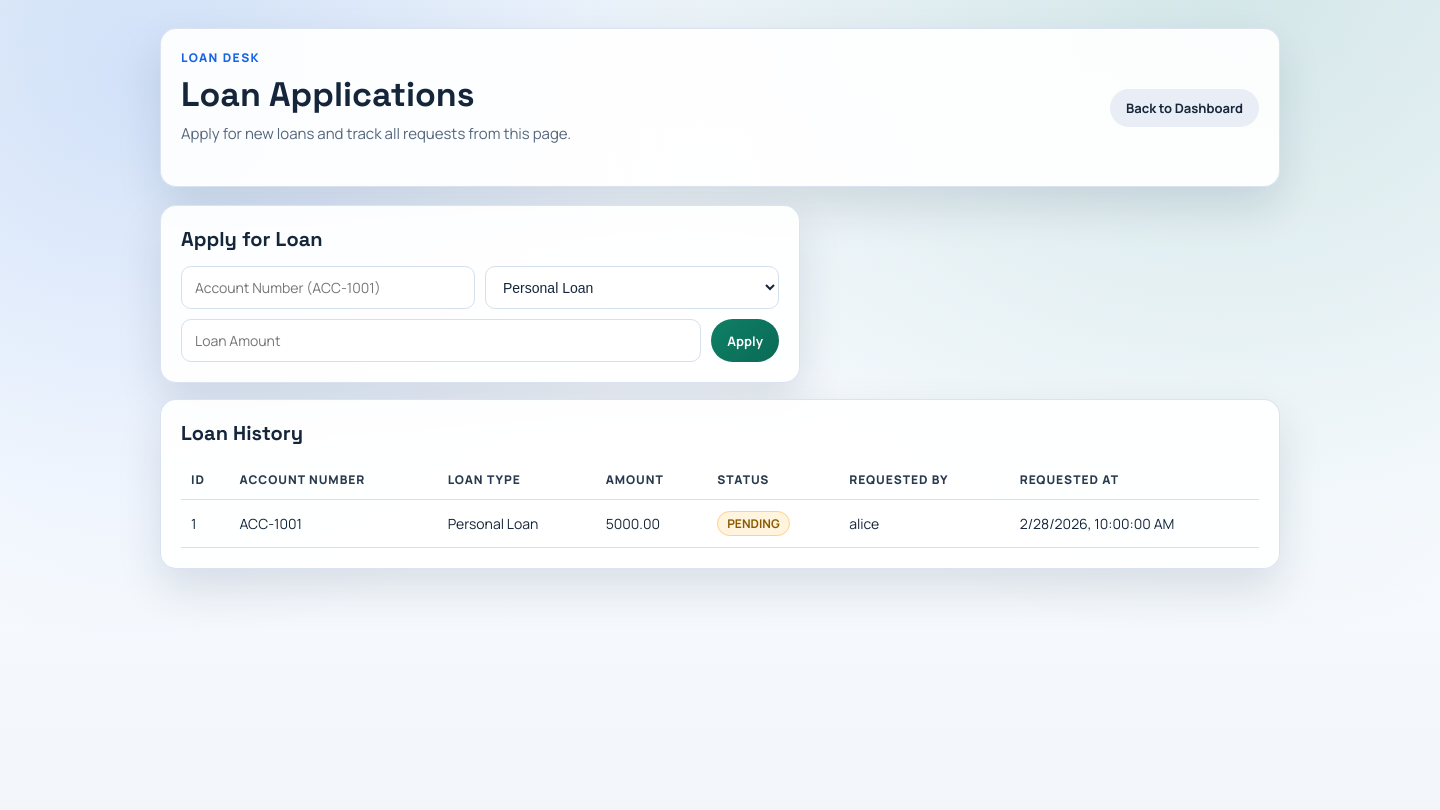
Test case: loads loans and submits a new loan application
Check: the text "ACC-1001" is shown, box [230,500,438,548]
Step 1. Type "ACC-2002" into the field labelled "Account Number (ACC-1001)" → x=328, y=288, box [181,266,475,309]
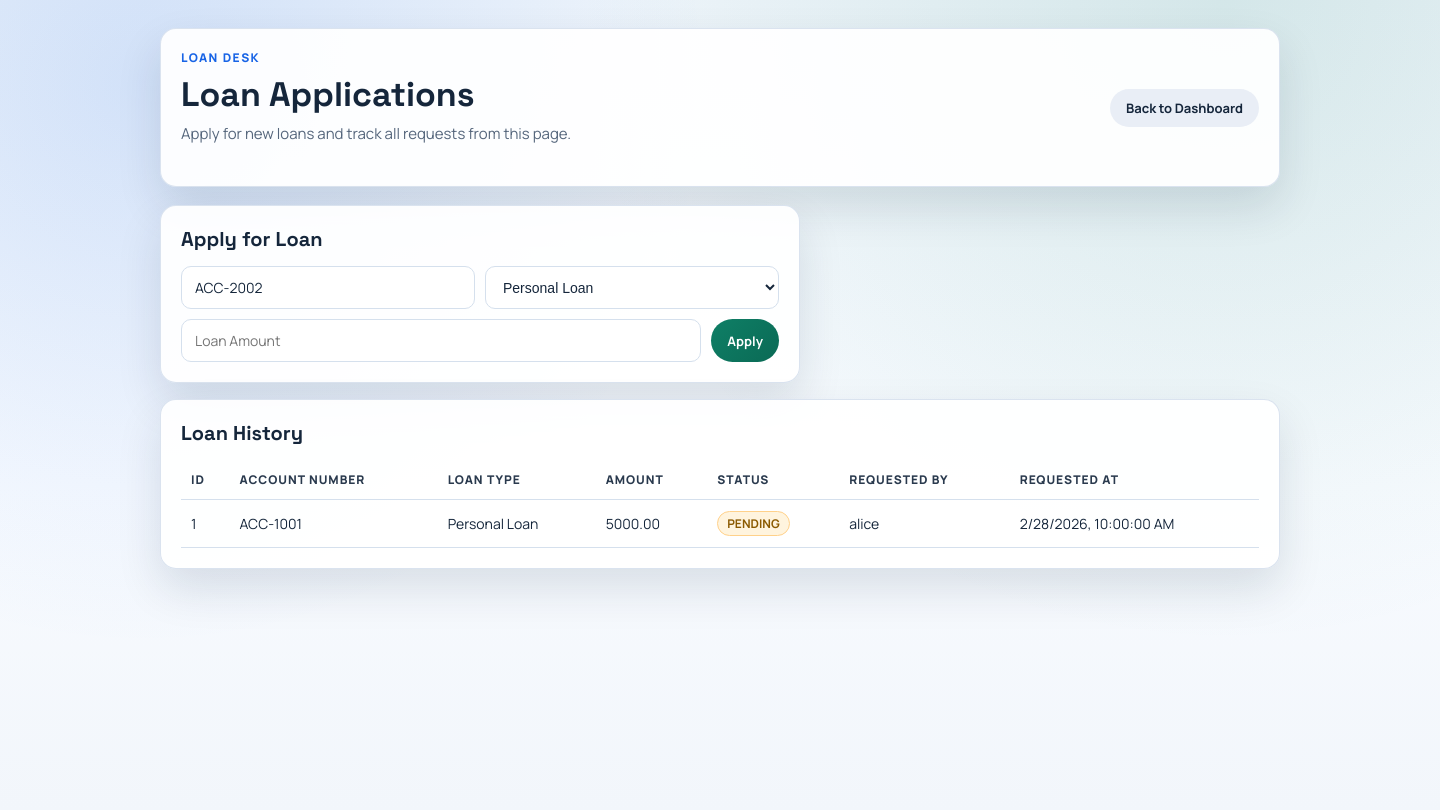
Step 2. Select "Home Loan" in the dropdown named "loan type" → x=632, y=288, box [485,266,779,309]
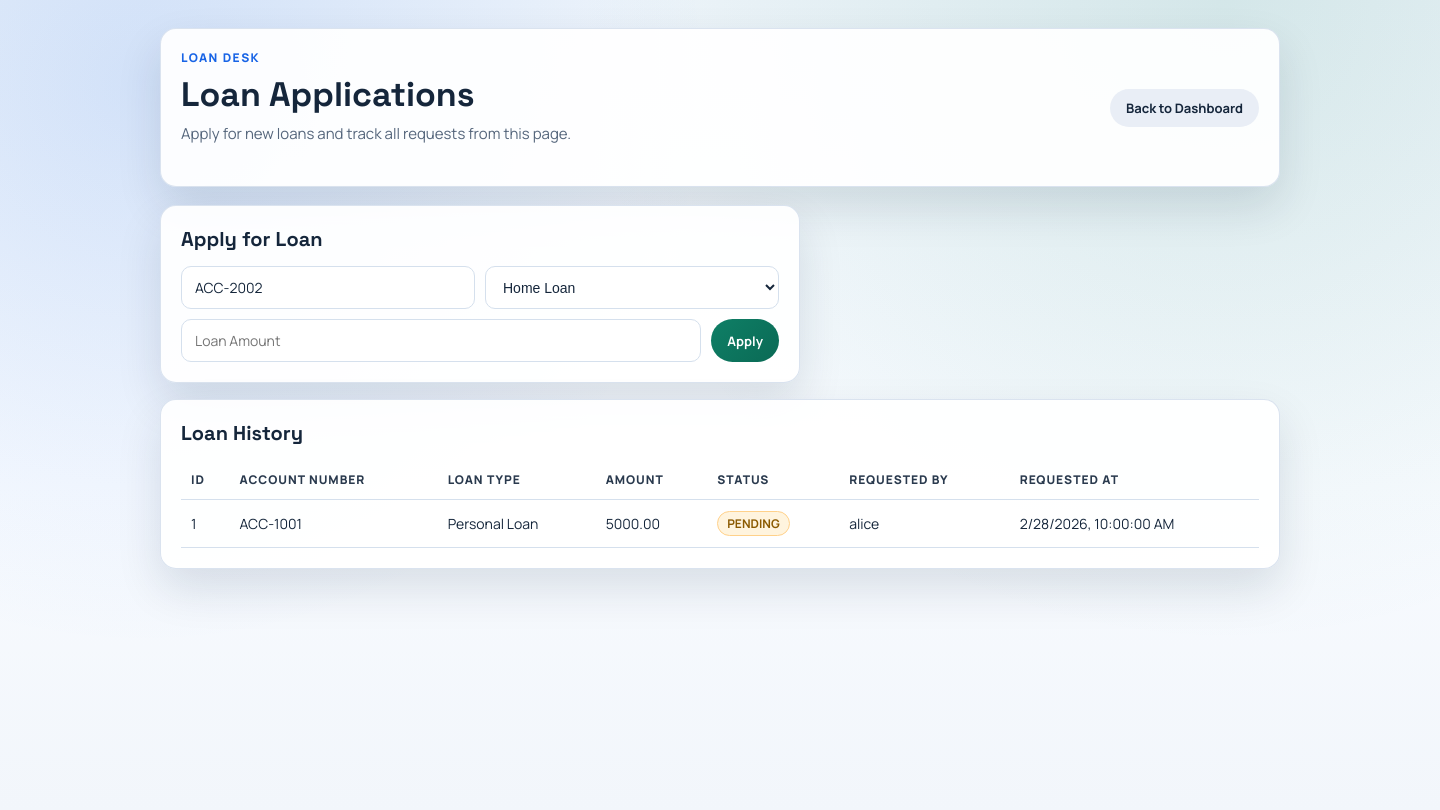
Step 3. Type "9000" into the number field labelled "Loan Amount" → x=441, y=341, box [181,319,701,362]
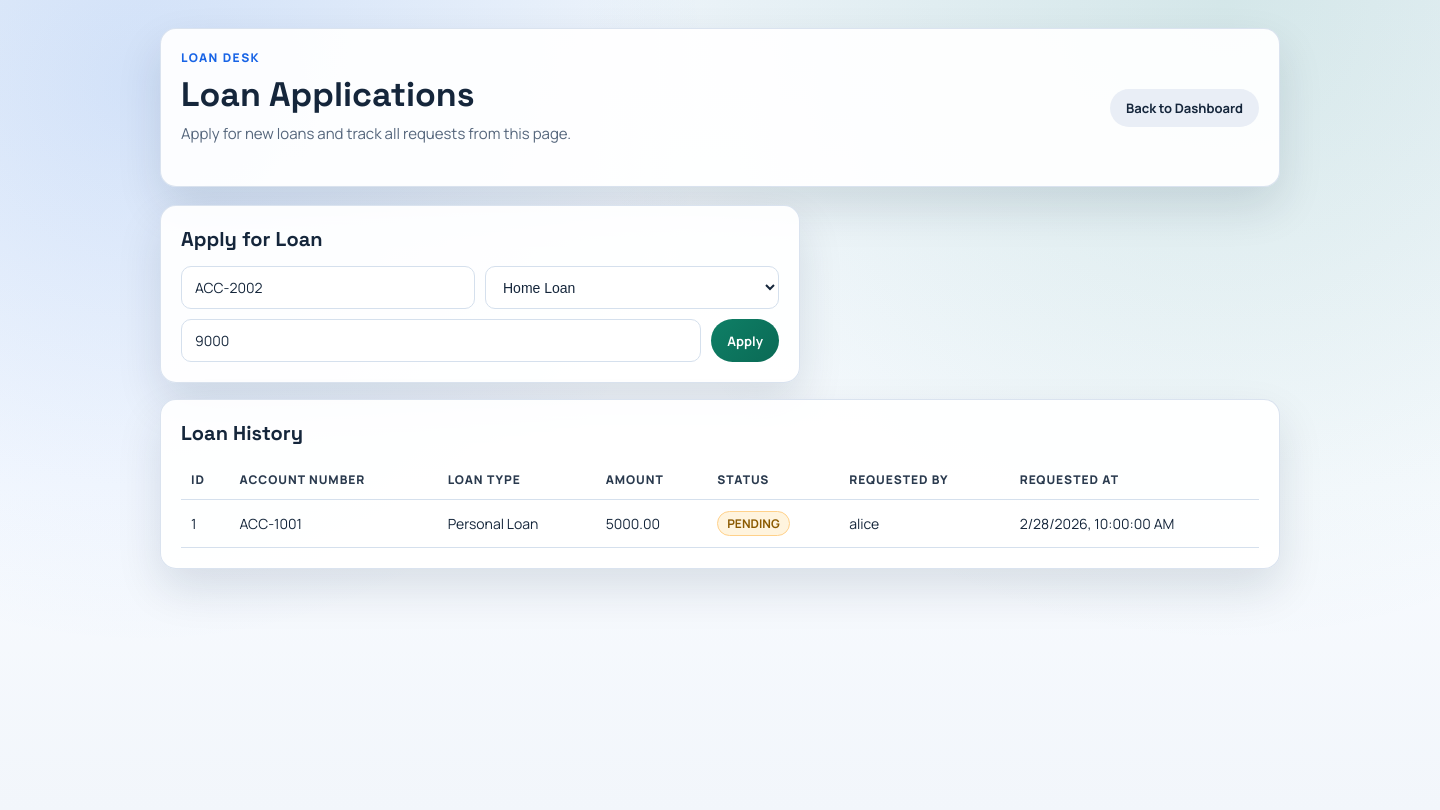
Step 4. Click the button "Apply" → x=745, y=341, box [711,319,779,362]
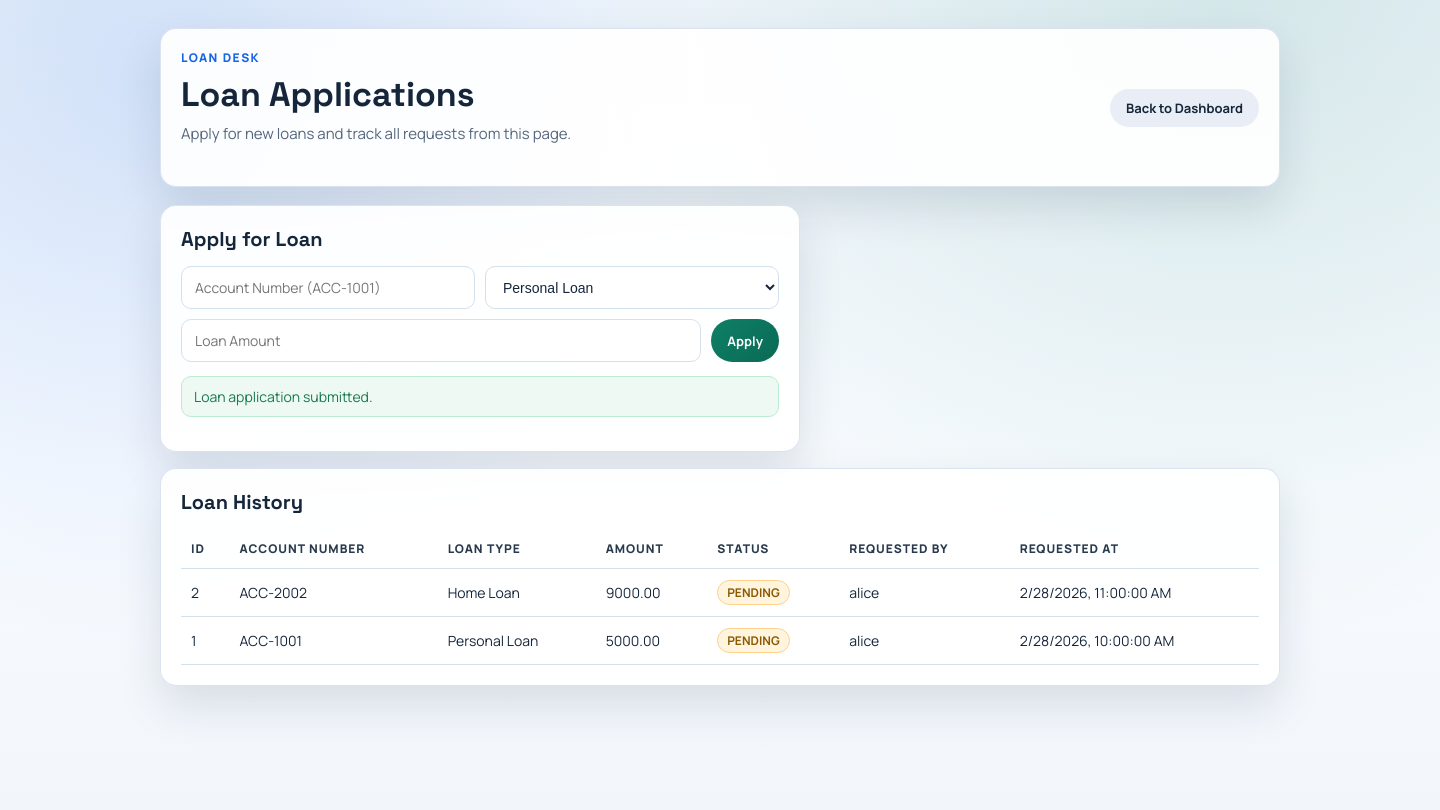
Check: the text "Loan application submitted." is shown, box [181,376,779,417]
Check: the text "ACC-2002" is shown, box [230,569,438,617]
